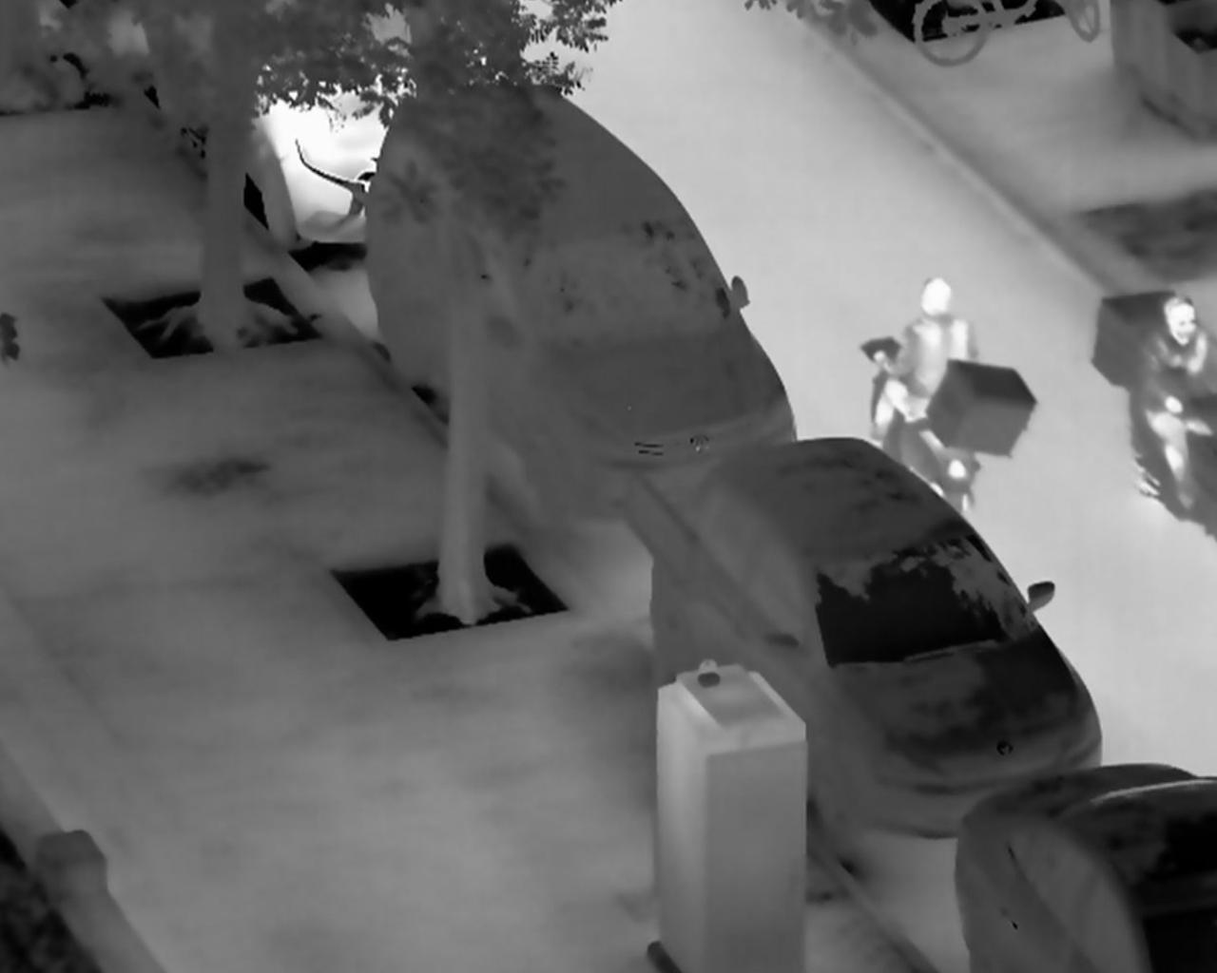person: (875, 275, 980, 445), (1140, 293, 1217, 509)
